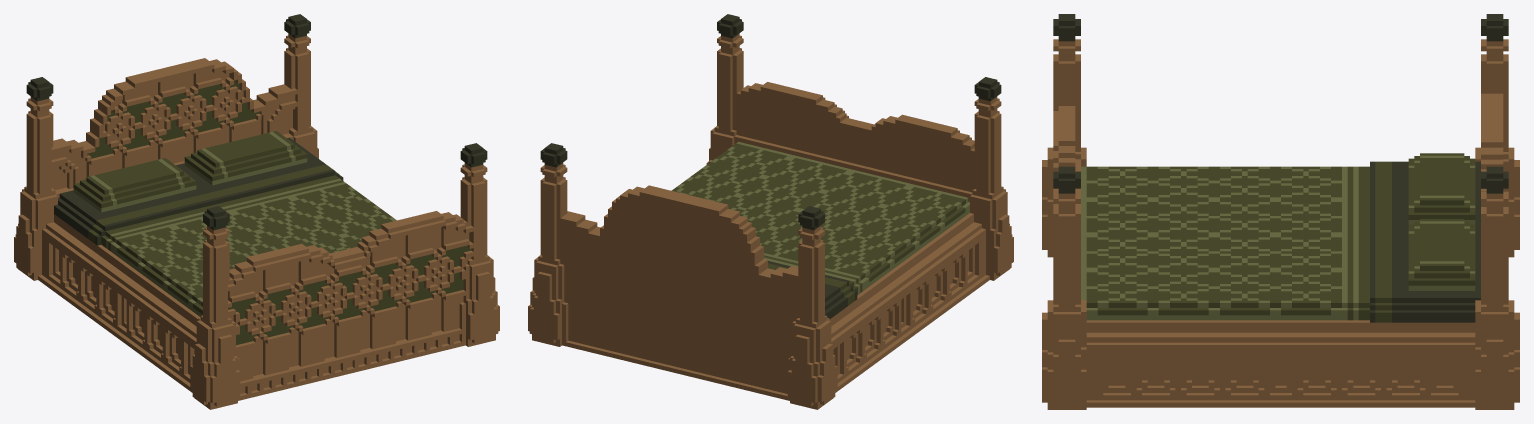
Rendered from bed_01.obj.
3 views of the same model, side by side, from view 1: azimuth 30°, elevation 25°; view 2: azimuth 150°, elevation 25°; view 3: azimuth 270°, elevation 25° (orthographic). The views are drawn at different scales.
Bounding box in the file's own units: 74 × 46 × 86.
1 material, 1 textured.
